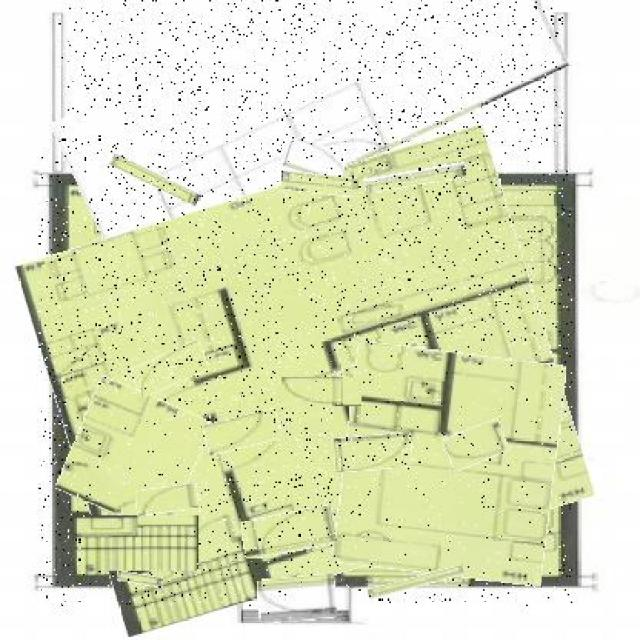door: (243, 508, 335, 555), (258, 576, 337, 622), (133, 348, 210, 390), (206, 412, 280, 452), (336, 434, 412, 471), (444, 423, 508, 466), (276, 378, 362, 409), (285, 142, 346, 178), (136, 486, 198, 514)
window: (108, 164, 202, 196), (365, 166, 466, 189), (368, 571, 466, 592), (280, 174, 358, 195), (117, 574, 163, 586)
zone: (39, 157, 572, 606), (57, 0, 563, 225), (338, 348, 560, 580), (65, 384, 203, 524), (82, 515, 198, 571), (342, 348, 432, 415)
